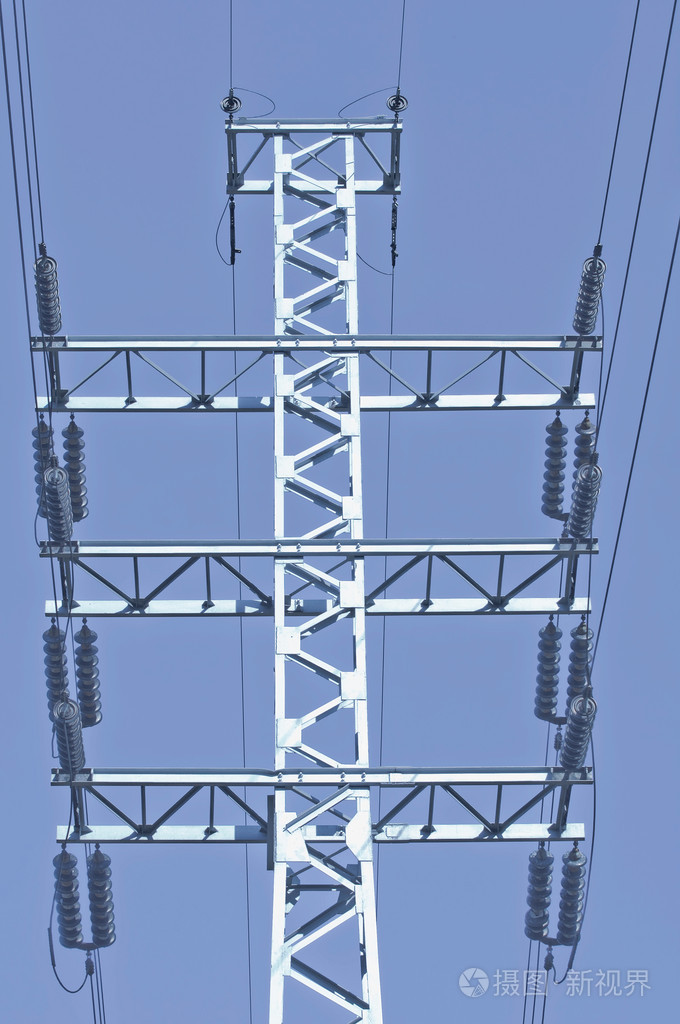insulator: (50, 849, 120, 944), (530, 622, 597, 720), (41, 625, 104, 729), (29, 416, 90, 522), (523, 849, 585, 946), (541, 415, 598, 510), (566, 255, 604, 331), (559, 696, 596, 772), (568, 462, 604, 535), (41, 470, 76, 543), (50, 703, 86, 773), (32, 255, 62, 332)
